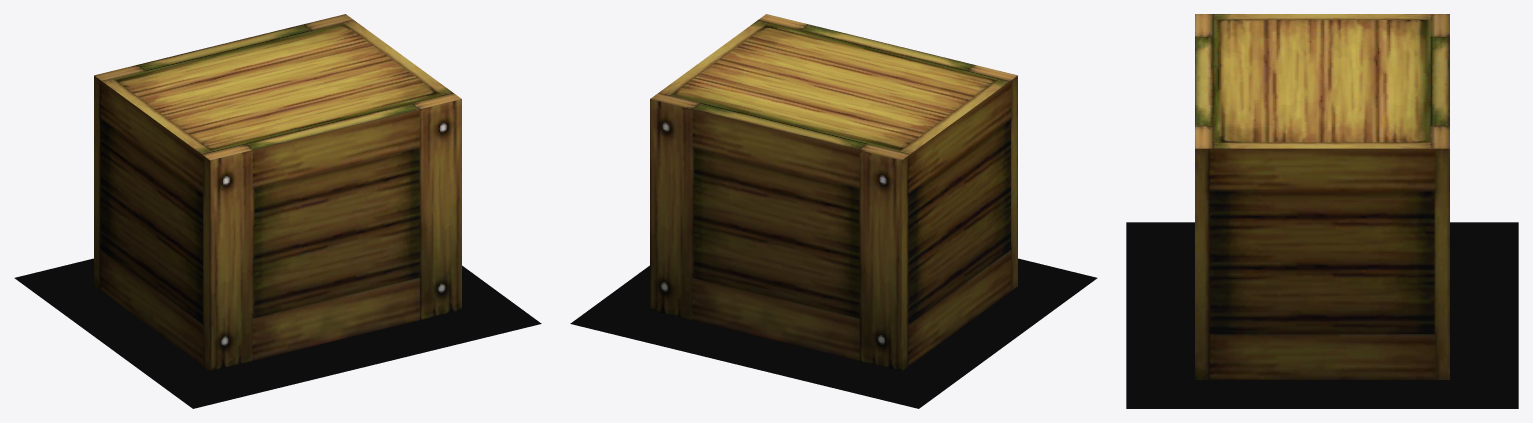
The model's file is Gimmick_Break_Box001.fbx.
The picture shows the model from 3 angles, left to right: view 1: azimuth 30°, elevation 25°; view 2: azimuth 150°, elevation 25°; view 3: azimuth 270°, elevation 25°; orthographic projection. The views are drawn at different scales.
Parts seen in each view (by area): view 1: Gimmick_Break_Box001, Gimmick_Shadow_box1; view 2: Gimmick_Break_Box001, Gimmick_Shadow_box1; view 3: Gimmick_Break_Box001, Gimmick_Shadow_box1.
Part boxes in pixels (x1,y1,x2,y2): Gimmick_Break_Box001: (94,14,461,371); Gimmick_Shadow_box1: (14,258,541,408); Gimmick_Break_Box001: (650,14,1017,371); Gimmick_Shadow_box1: (570,258,1097,408); Gimmick_Break_Box001: (1195,14,1449,379); Gimmick_Shadow_box1: (1126,222,1518,408).
Size of the model in its own units: 1.27 by 0.7458 by 1.13.
